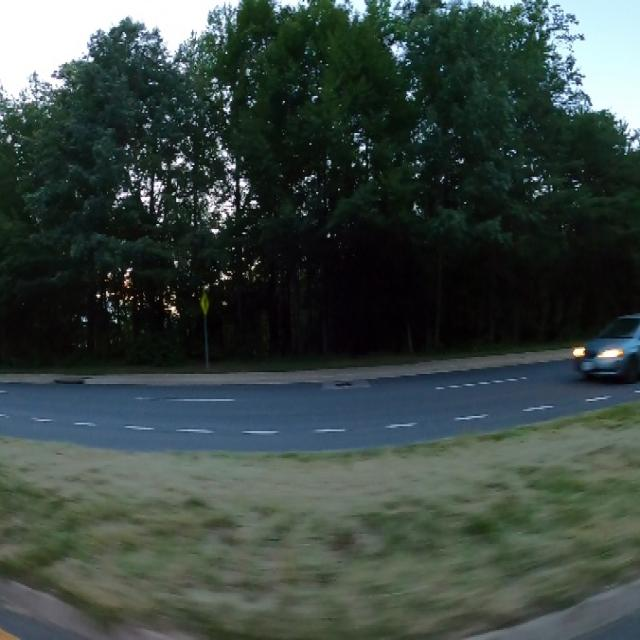cars: (564, 297, 640, 397)
